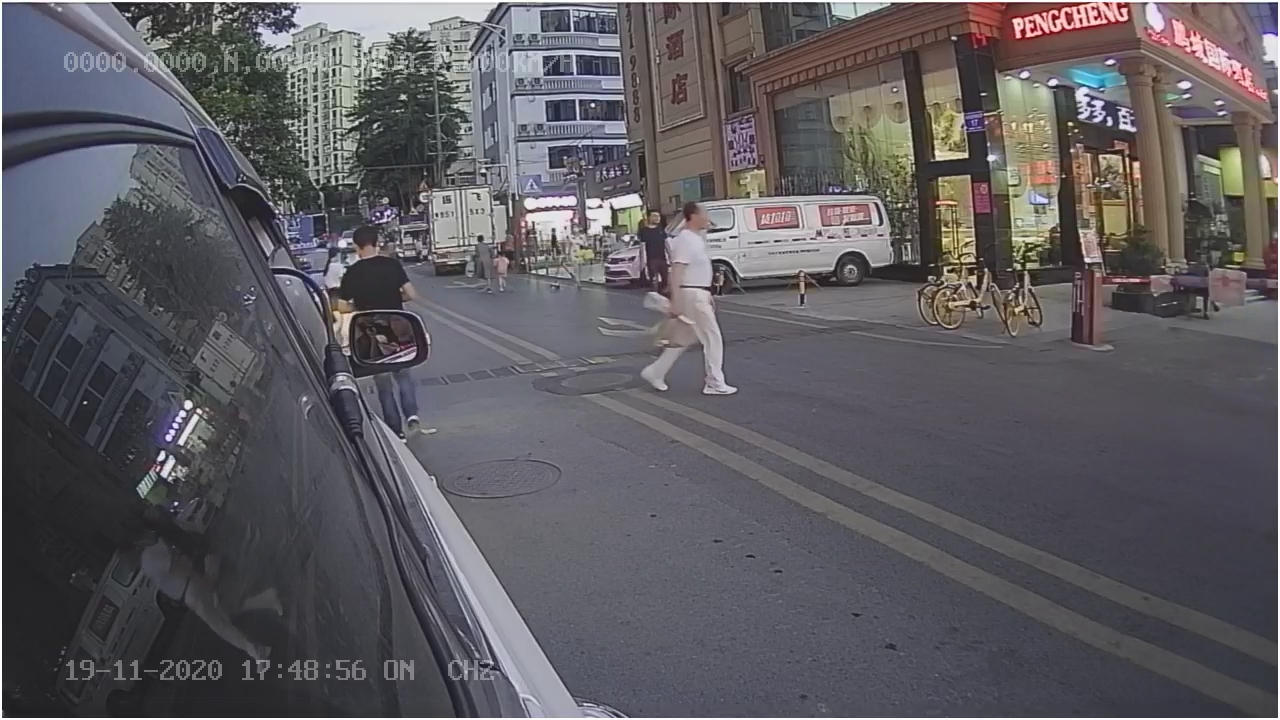person: (643, 208, 739, 402)
